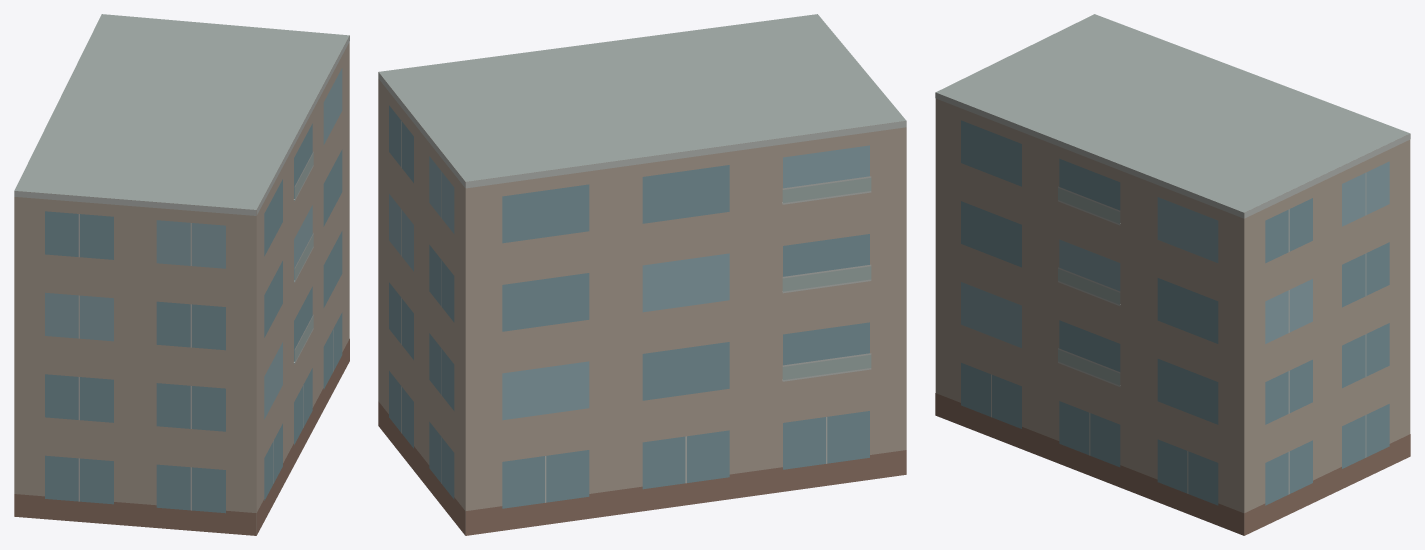
Rendered from survey-upis-32713169.glb.
The picture shows the model from 3 angles, left to right: view 1: azimuth 30°, elevation 25°; view 2: azimuth 150°, elevation 25°; view 3: azimuth 270°, elevation 25°; orthographic projection. The views are drawn at different scales.
Parts seen in each view (by area): view 1: survey-upis-32713169.tmp; view 2: survey-upis-32713169.tmp; view 3: survey-upis-32713169.tmp.
Boxes of the visible parts, bbox=[...] form: survey-upis-32713169.tmp: bbox=[14, 14, 349, 535]; survey-upis-32713169.tmp: bbox=[378, 14, 906, 535]; survey-upis-32713169.tmp: bbox=[935, 14, 1410, 535].
Size of the model in its own units: 17.42 by 13.2 by 17.59.
